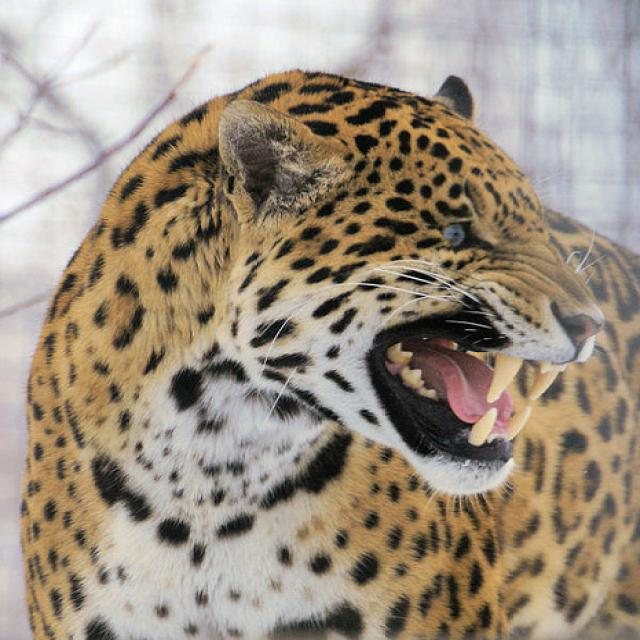Leopard: (15, 65, 636, 636)
